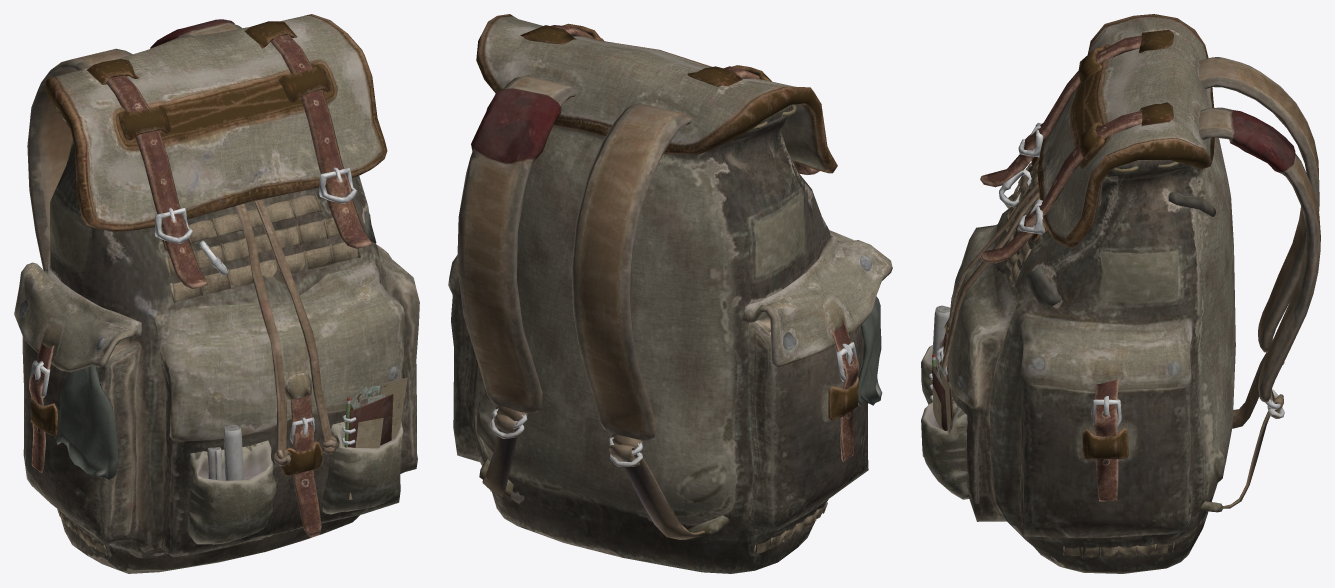
The model's file is backpack.gltf.
3 views of the same model, side by side, from view 1: azimuth 30°, elevation 25°; view 2: azimuth 150°, elevation 25°; view 3: azimuth 270°, elevation 25° (orthographic). The views are drawn at different scales.
Visible parts, largest first — view 1: backpack, straps, notebook, scrolls; view 2: backpack, straps; view 3: backpack, straps, notebook, scrolls.
Boxes of the visible parts, left/top/right/bottom form: backpack: left=14, top=14, right=419, bottom=573; straps: left=27, top=19, right=242, bottom=270; notebook: left=341, top=377, right=407, bottom=499; scrolls: left=207, top=424, right=243, bottom=480; backpack: left=448, top=14, right=892, bottom=573; straps: left=457, top=75, right=729, bottom=540; backpack: left=921, top=14, right=1235, bottom=573; straps: left=1199, top=57, right=1320, bottom=512; notebook: left=929, top=354, right=953, bottom=430; scrolls: left=932, top=305, right=950, bottom=360.
Size of the model in its own units: 0.5187 by 0.6382 by 0.5119.
1 material, 1 textured.
